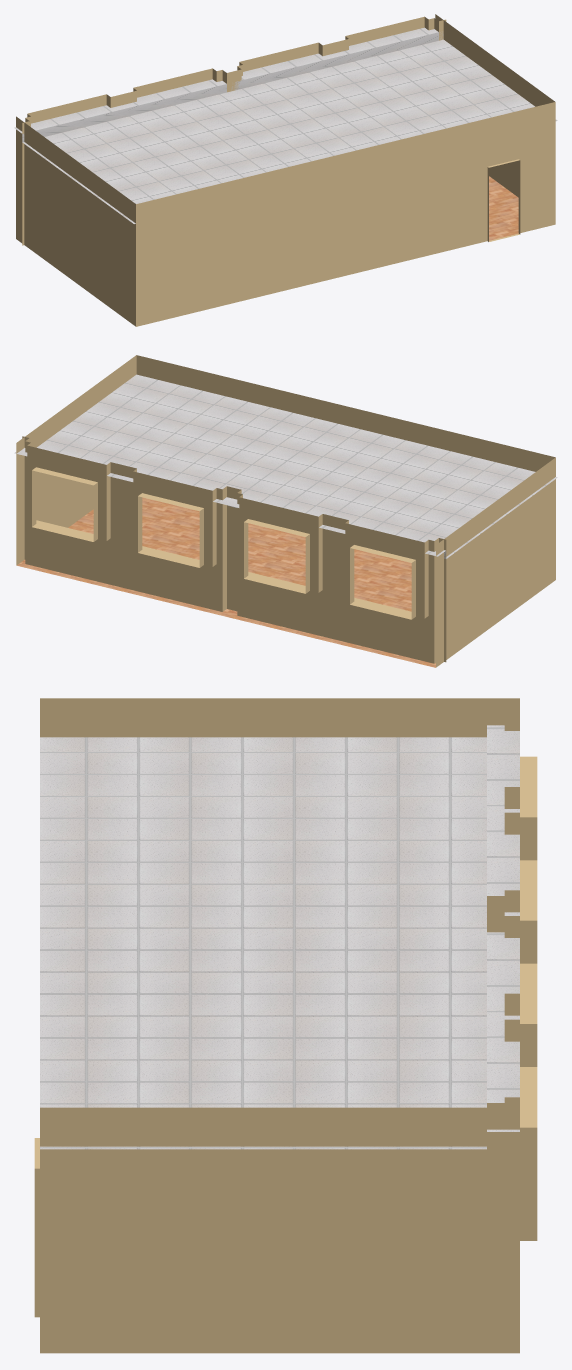
File: room4.glb
3 renders of one model, top to bottom at view 1: azimuth 30°, elevation 25°; view 2: azimuth 150°, elevation 25°; view 3: azimuth 270°, elevation 25°, orthographic. The views are drawn at different scales.
Parts seen in each view (by area): view 1: 4et.005; view 2: 4et.005; view 3: 4et.005.
Part boxes in pixels (box(x1,y1,x2,y2)): 4et.005: box(14, 14, 557, 326); 4et.005: box(14, 355, 557, 667); 4et.005: box(34, 698, 537, 1353).
Size of the model in its own units: 11.93 by 3.3 by 6.13.
3 materials, 2 textured.
